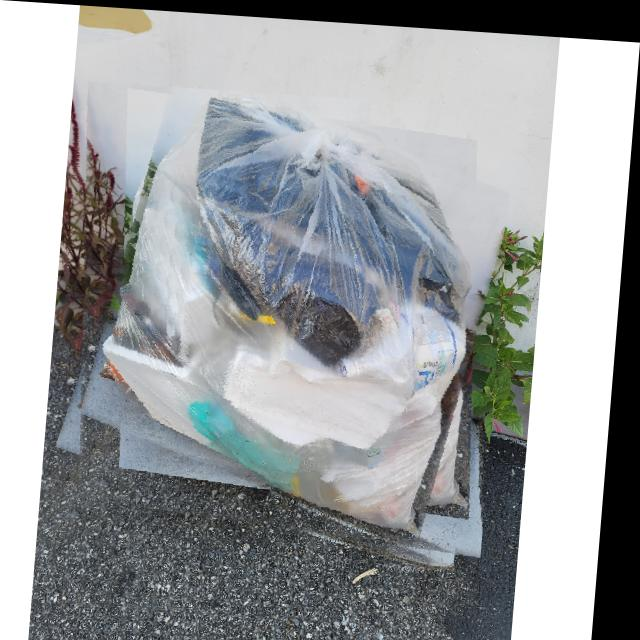other_trashbag: (83, 84, 513, 543)
